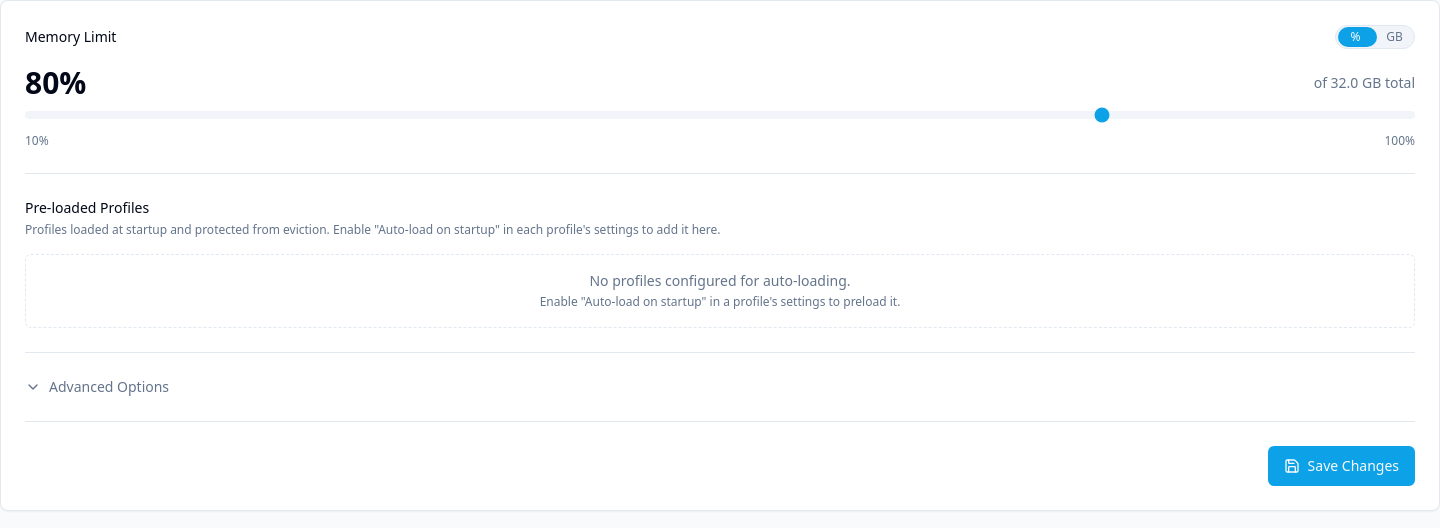
Test: ModelPoolSettings › memory mode toggle › switches from percent to GB mode
Expected: the text "80%" is shown, [25,65,86,101]
// Click the toggle button (contains "%" and "GB" text)
Click the button "% GB" at {"x": 1375, "y": 37}, box [1335,25,1415,49]
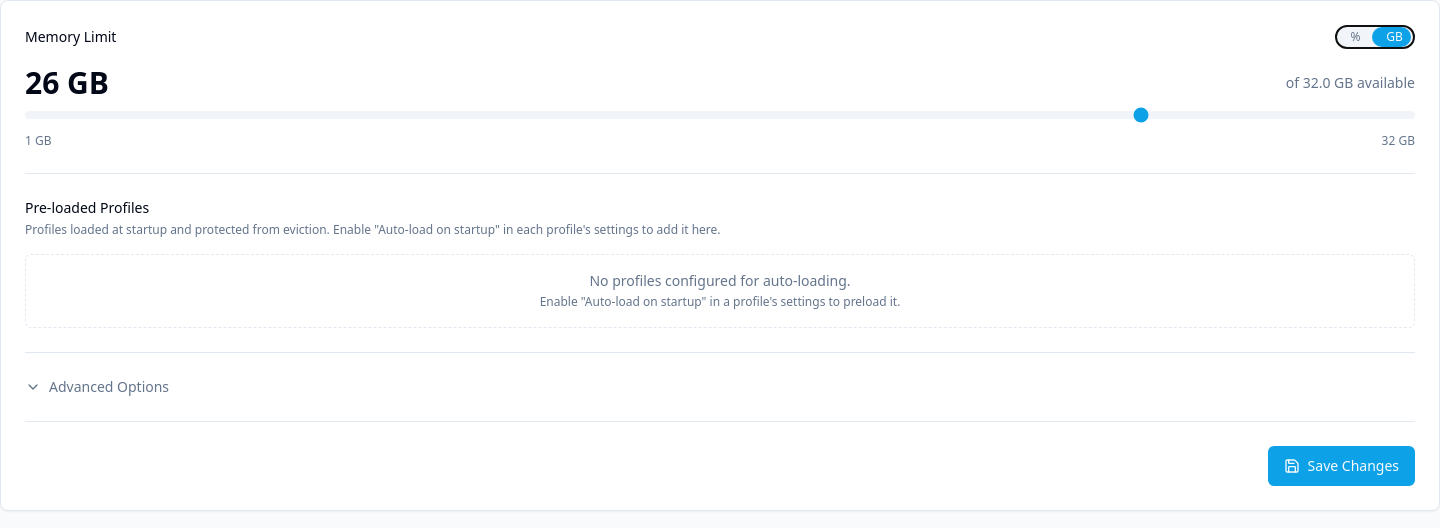
Result: the text "26 GB" is shown at [25,65,109,101]
